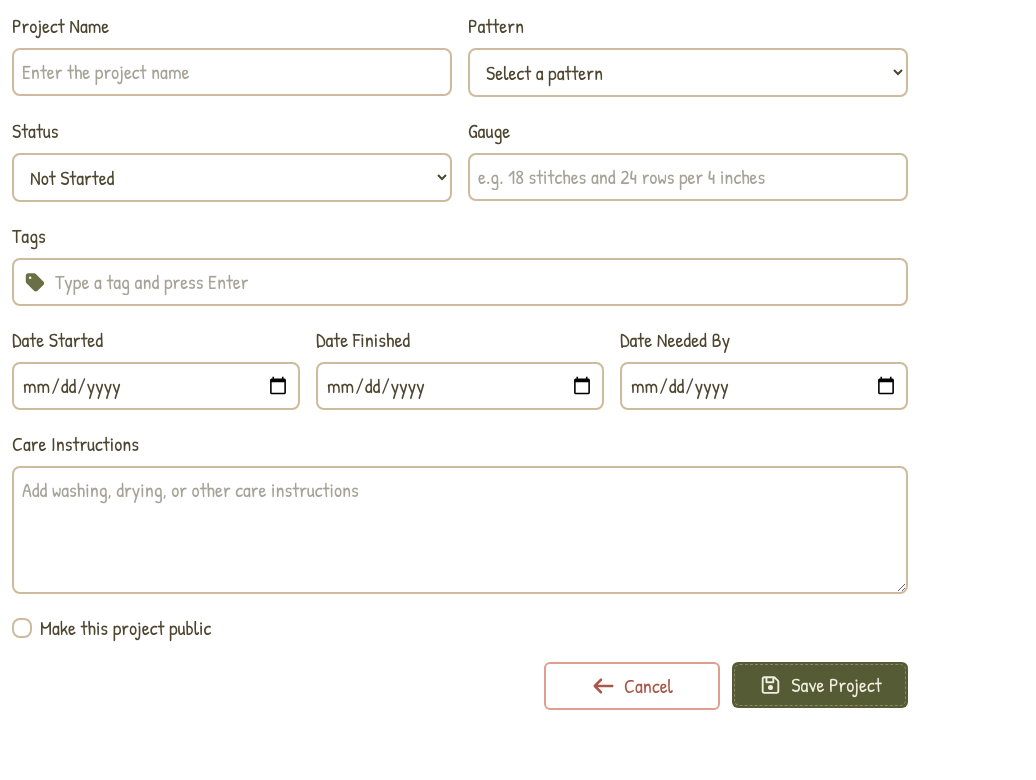
Test: ProjectForm › requires a project name and pattern
Click the button "Save Project": (820, 685) [732,662,908,708]
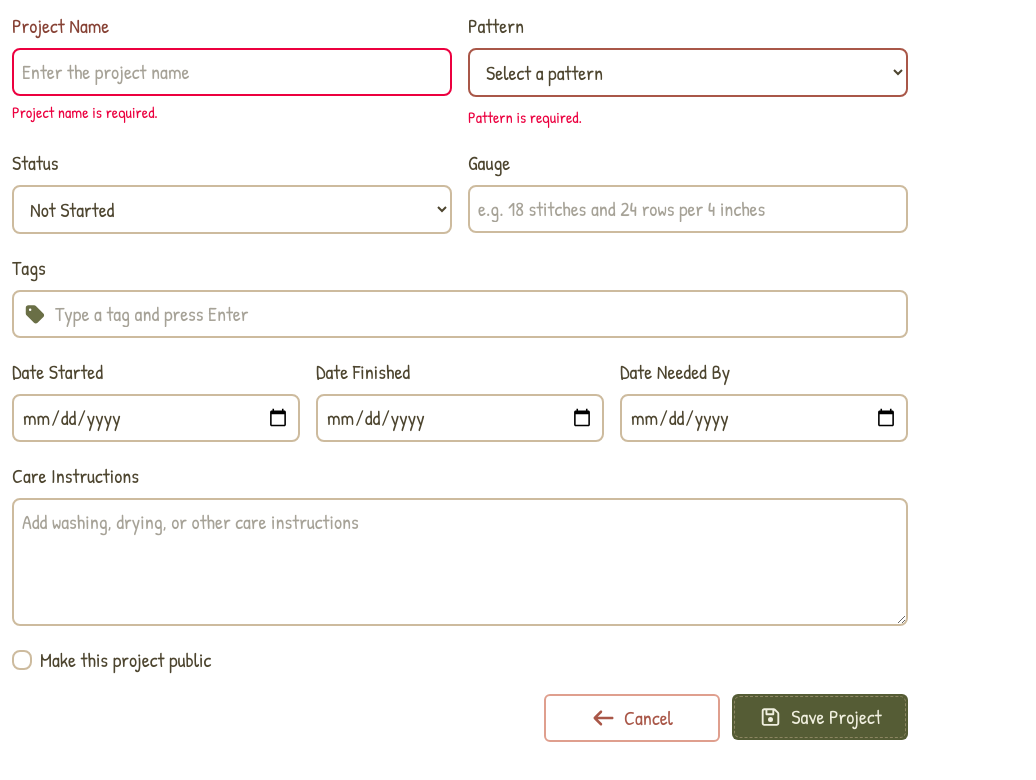
Expected: the text "Project name is required." is shown, [12,101,158,123]
Expected: the text "Pattern is required." is shown, [468,106,582,128]
